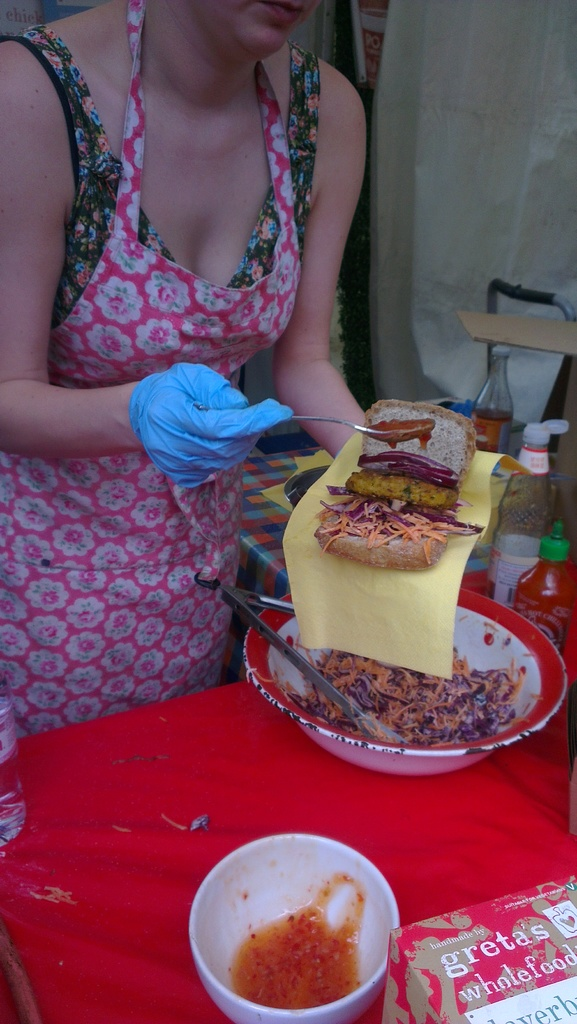sandwich: (315, 395, 481, 566)
